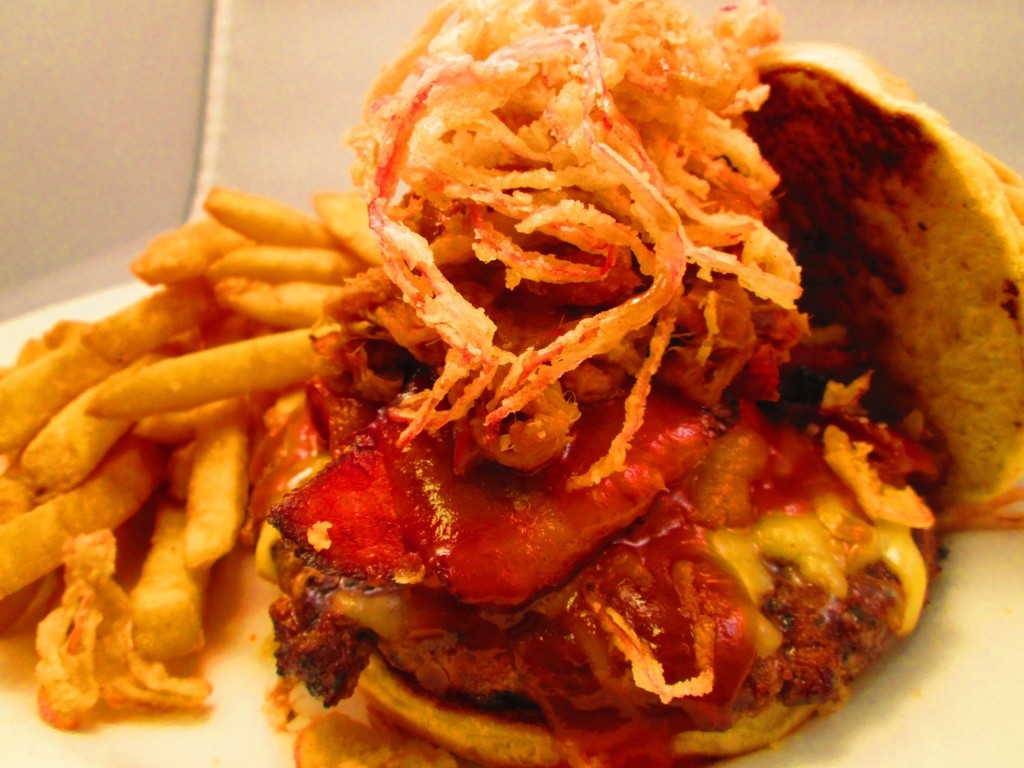French fries: (20, 157, 375, 760)
